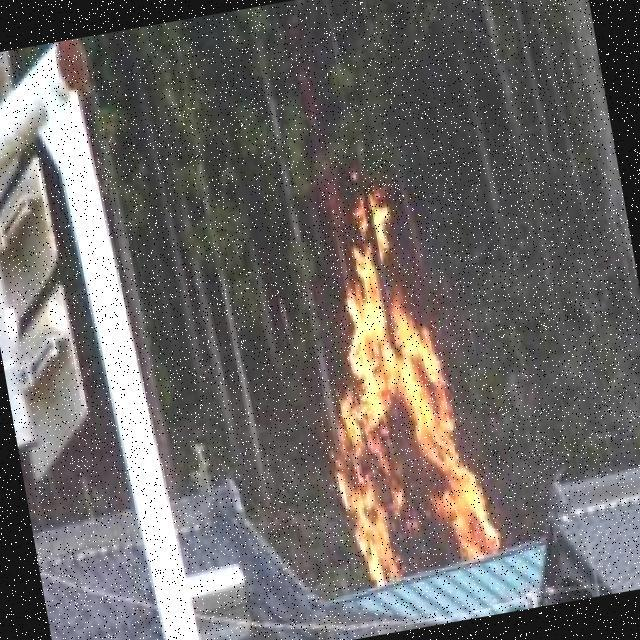Fire: (286, 193, 505, 592)
